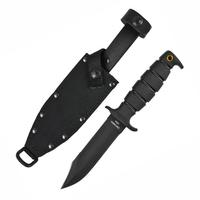knife: (18, 14, 179, 194)
